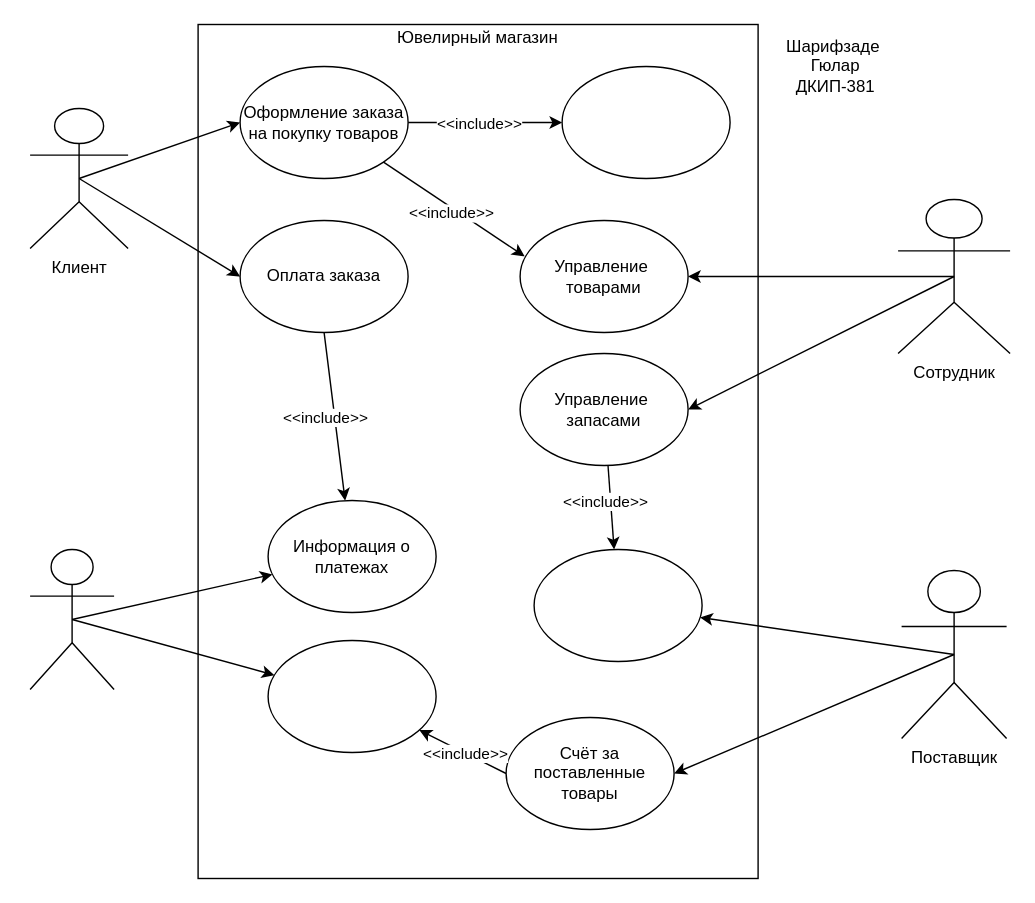
This 1035x903 diagram has some shape labels left out. The shapes that lost their labels are listed below. From the top down, each one's centre as x and y in pixels, then its label:
At point 645,121: "Вход в личный кабинет или зарегистрироваться".
At point 71,619: "Бухгалтерия".
At point 617,605: "Получен заказ на поставку".
At point 351,695: "Финансовые отчёты".
